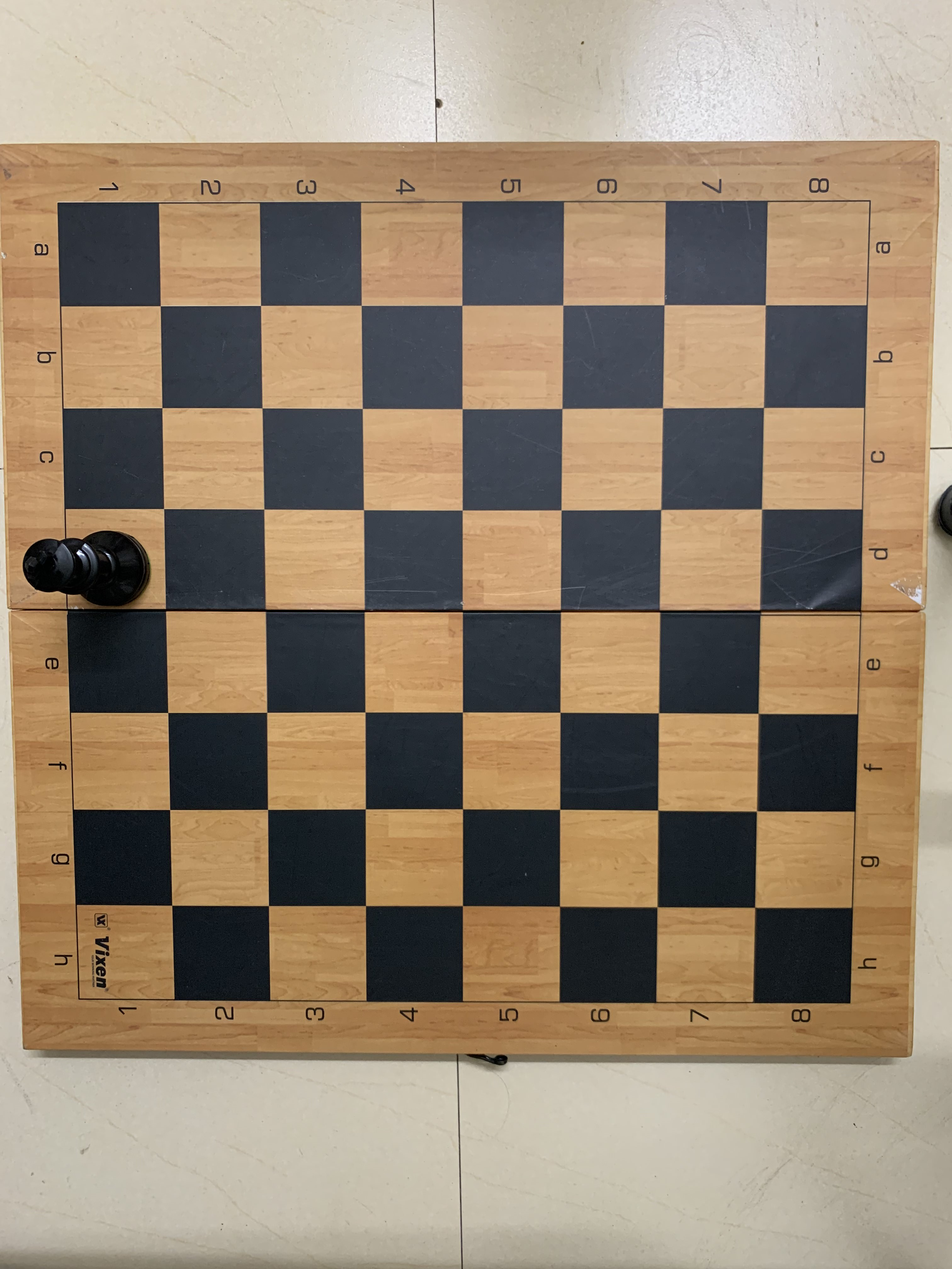black_king: (12, 503, 168, 612)
